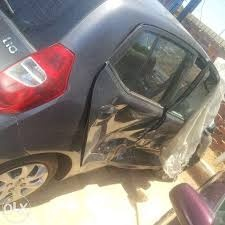Smashed: (84, 85, 202, 171)
